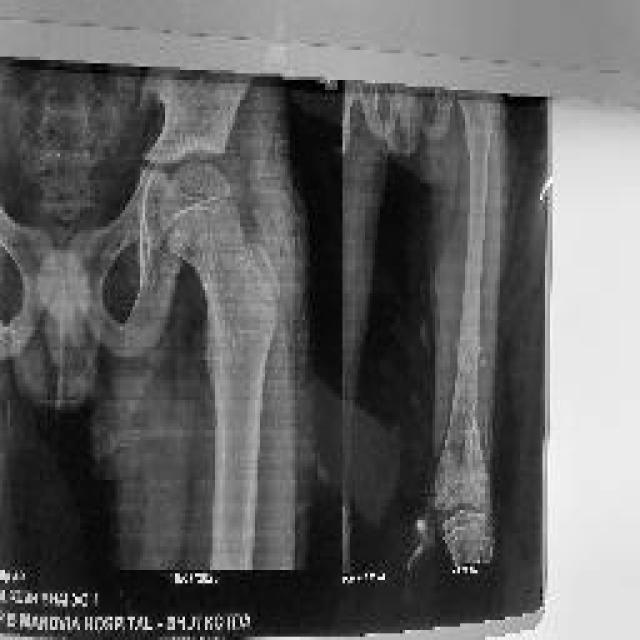bone-cancer: (439, 334, 484, 482)
